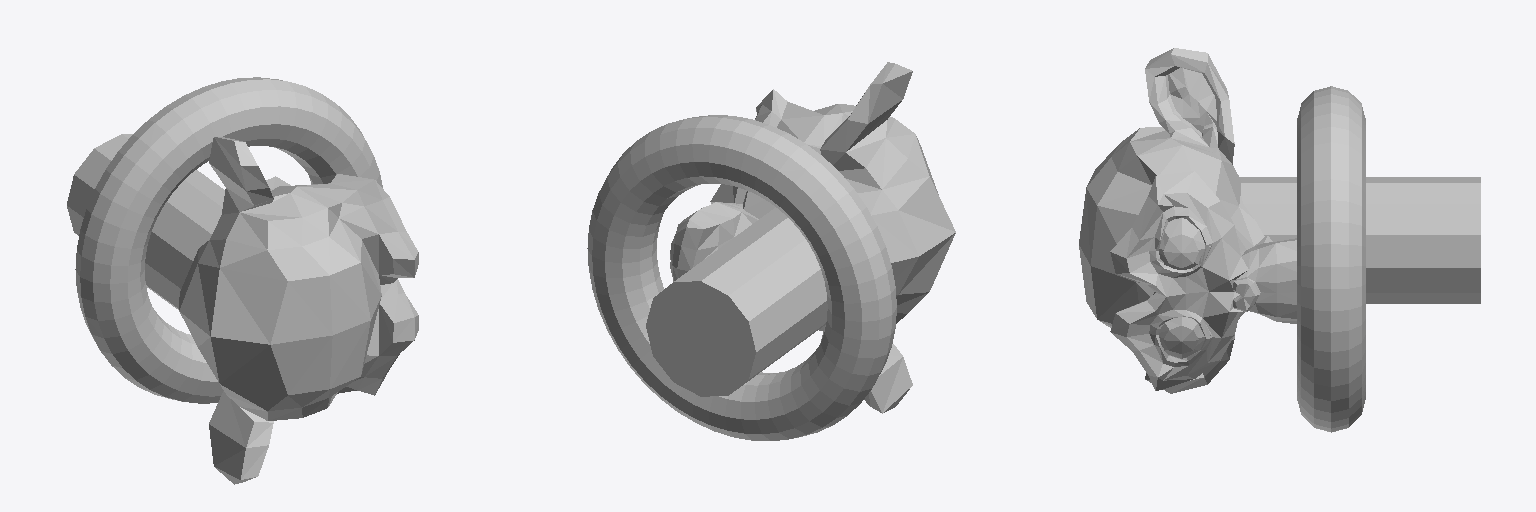
File: goldenMonkey.obj
3 renders of one model, left to right at view 1: azimuth 30°, elevation 25°; view 2: azimuth 150°, elevation 25°; view 3: azimuth 270°, elevation 25°, orthographic.
Size of the model in its own units: 0.15 by 0.1641 by 0.1741.